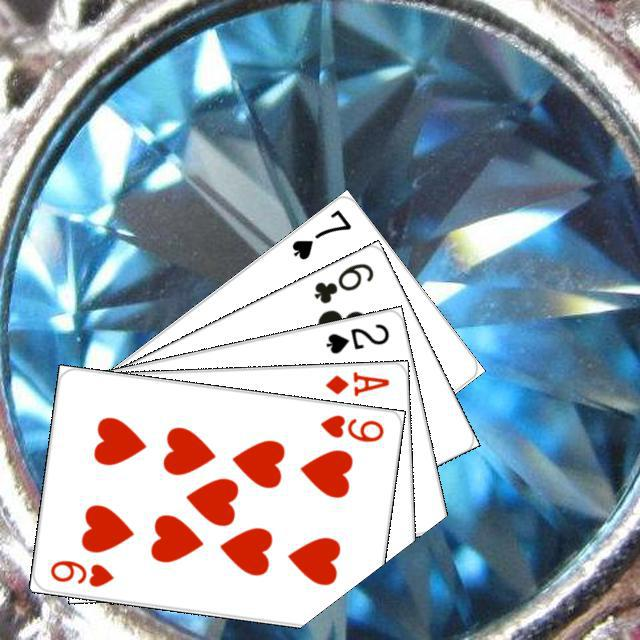2s: (321, 318, 391, 356)
6c: (309, 258, 376, 306)
7s: (286, 204, 353, 262)
9h: (315, 409, 386, 444), (45, 555, 116, 589)
Ad: (320, 367, 391, 398)
